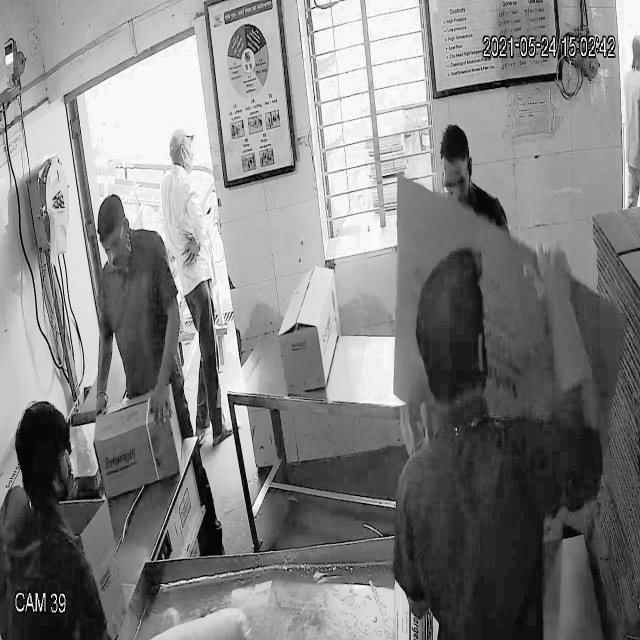Gafas: (97, 228, 129, 261)
